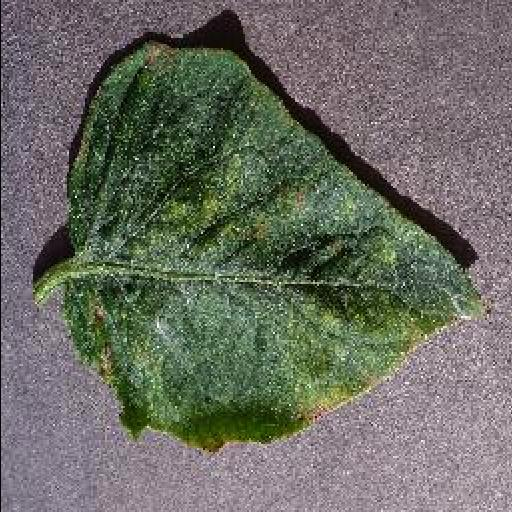disease_tomato: (68, 33, 486, 455)
